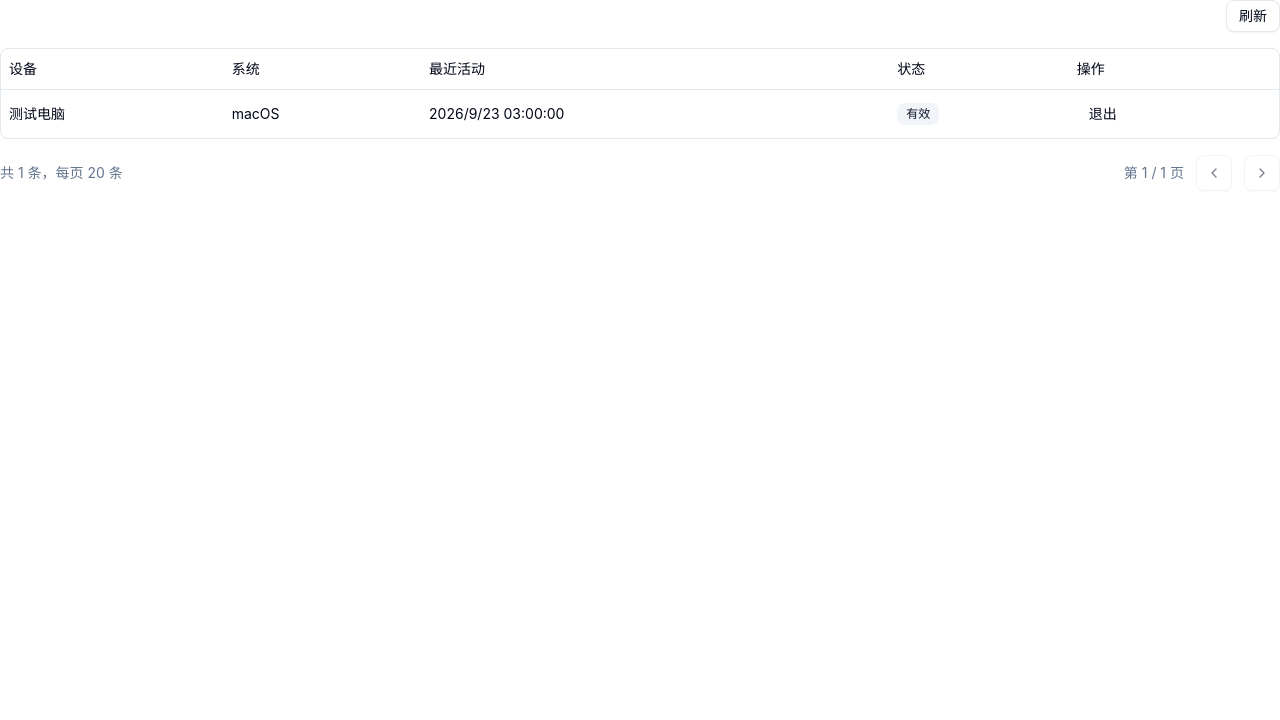
Scenario: 桌面登录设备 › 接口失败保留确认窗口，允许重试
What coordinates should you click on to do the following:
click the button with aria-label "退出设备 测试电脑"
I would click on:
 (1103, 114)
Its box is [1077,98,1129,130].
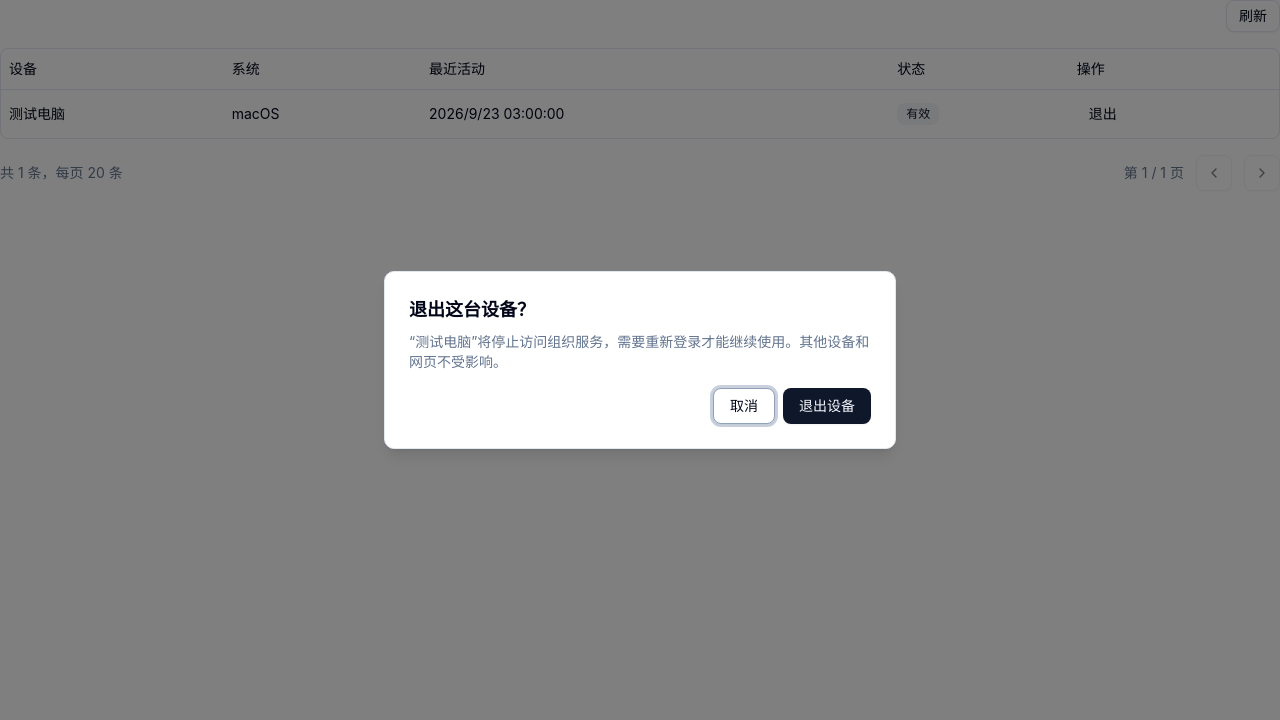
What coordinates should you click on to do the following:
click the button "退出设备"
I would click on:
 (827, 406)
Its box is [783,388,871,424].
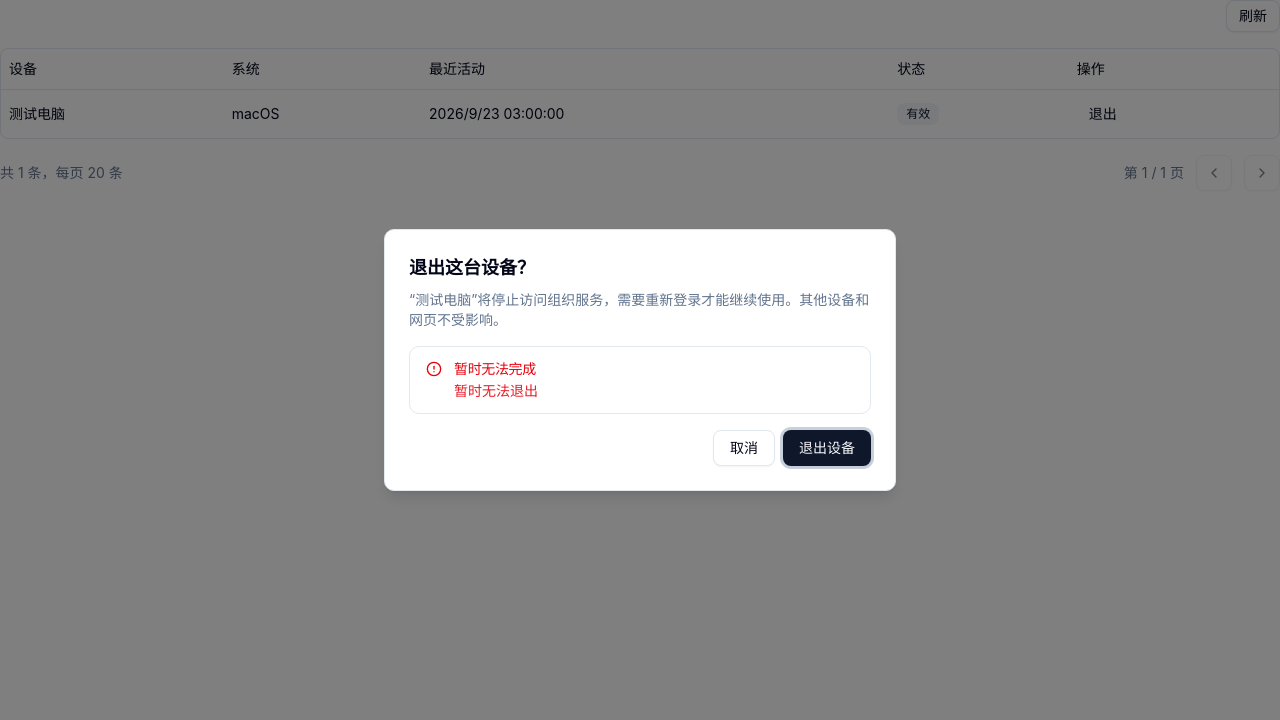
Expected: the button "退出设备" is enabled, [783,430,871,466]
Expected: the text "暂时无法退出" is shown, [454,381,538,401]
